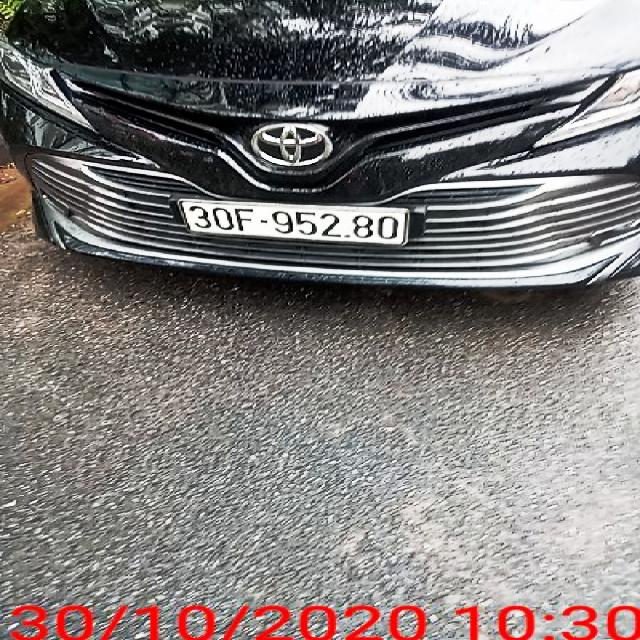license_plate: (177, 200, 412, 246)
